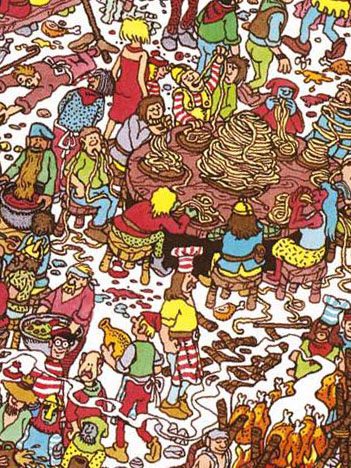waldo: (49, 320, 72, 360)
